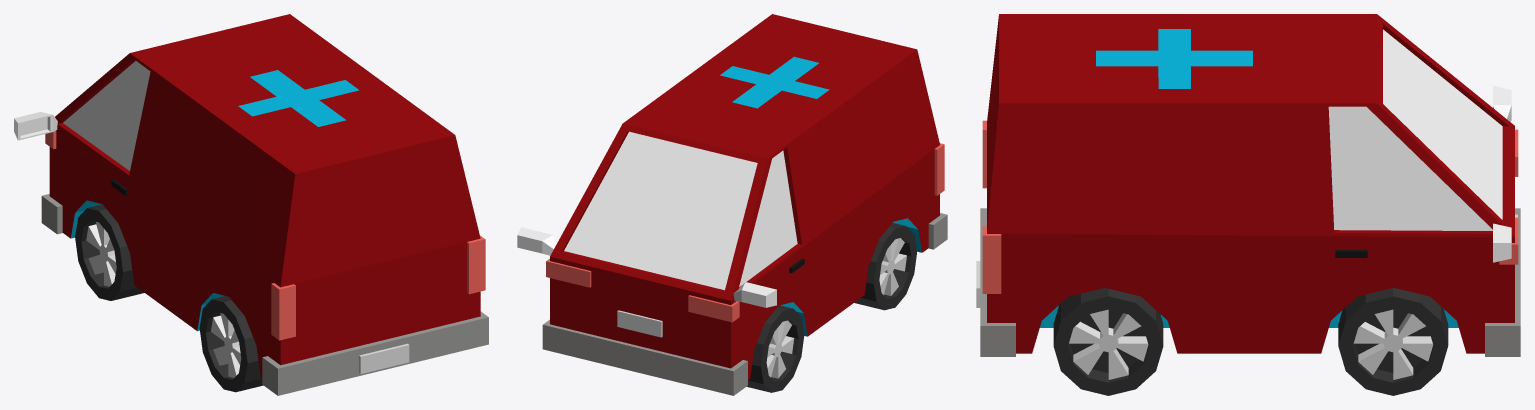
File: ambulancia.fbx
The picture shows the model from 3 angles, left to right: view 1: azimuth 30°, elevation 25°; view 2: azimuth 150°, elevation 25°; view 3: azimuth 270°, elevation 25°; orthographic projection. The views are drawn at different scales.
Parts seen in each view (by area): view 1: carro.003, lataria t.003, Cilindro.009, Cilindro.001, lantern 1 T.003, placa 2.003, lanterna 2 f.006, lataria f.003; view 2: carro.003, lataria f.003, Cilindro.001, Cilindro.009, lanterna 2 f.003, lanterna 2 f.006, placa 1.003, lataria t.003, lantern 1 T.003; view 3: carro.003, Cilindro.001, Cilindro.009, lataria f.003, lataria t.003, lantern 1 T.003, lanterna 2 f.006, lanterna 2 f.003.
Part boxes in pixels (box(x1,y1,x2,y2)): carro.003: box(49, 14, 480, 378); lataria t.003: box(262, 311, 488, 395); Cilindro.009: box(199, 296, 263, 392); Cilindro.001: box(75, 204, 144, 300); lantern 1 T.003: box(271, 235, 485, 340); placa 2.003: box(359, 343, 409, 373); lanterna 2 f.006: box(14, 112, 57, 140); lataria f.003: box(41, 194, 62, 234); carro.003: box(550, 14, 939, 379); lataria f.003: box(542, 319, 747, 395); Cilindro.001: box(746, 305, 804, 392); Cilindro.009: box(854, 223, 916, 310); lanterna 2 f.003: box(546, 258, 739, 322); lanterna 2 f.006: box(517, 227, 776, 307); placa 1.003: box(617, 310, 662, 337); lataria t.003: box(928, 213, 947, 249); lantern 1 T.003: box(934, 143, 944, 195); carro.003: box(987, 14, 1514, 353); Cilindro.001: box(1338, 288, 1448, 395); Cilindro.009: box(1053, 288, 1163, 395); lataria f.003: box(1485, 208, 1520, 356); lataria t.003: box(980, 208, 1015, 356); lantern 1 T.003: box(982, 120, 1001, 293); lanterna 2 f.006: box(1493, 85, 1511, 262); lanterna 2 f.003: box(1499, 129, 1518, 264).
Size of the model in its own units: 282 by 234 by 412.
